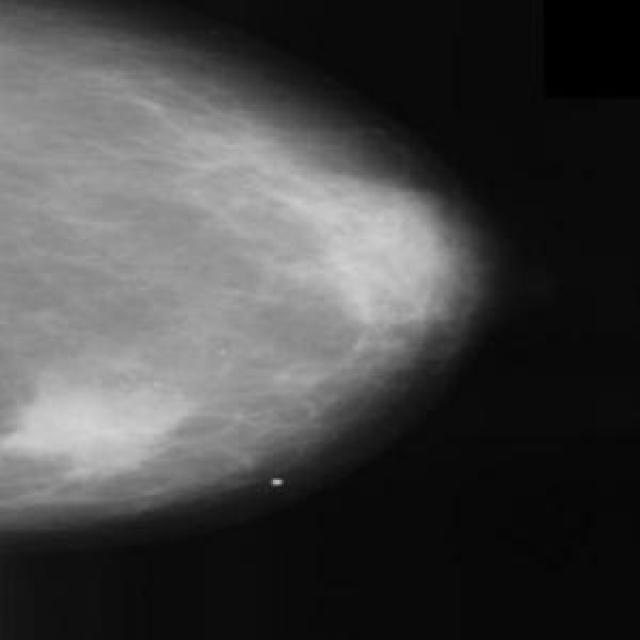tumor: (306, 164, 460, 339), (17, 364, 188, 482)
